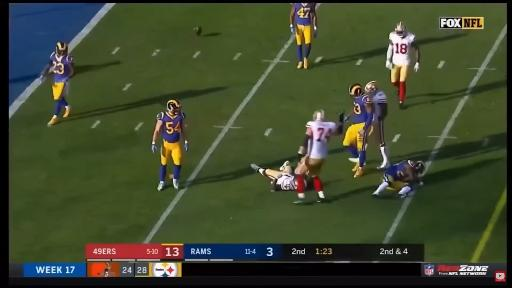Helmet: (166, 101, 181, 114), (350, 84, 362, 97), (56, 42, 68, 54), (367, 81, 377, 95), (314, 109, 325, 121), (414, 163, 425, 174), (395, 23, 406, 34)
Jersey: (306, 121, 336, 158), (383, 161, 417, 190), (389, 32, 415, 65), (158, 112, 185, 143), (50, 52, 74, 82), (385, 161, 413, 182), (352, 95, 372, 124), (294, 3, 314, 25), (372, 91, 387, 120), (276, 173, 297, 191), (372, 91, 386, 103)
Player: (295, 110, 344, 203), (152, 100, 188, 190), (39, 42, 75, 126), (386, 22, 419, 109), (343, 84, 373, 177), (365, 81, 389, 169), (373, 160, 425, 197), (290, 3, 317, 68), (251, 161, 297, 191)
